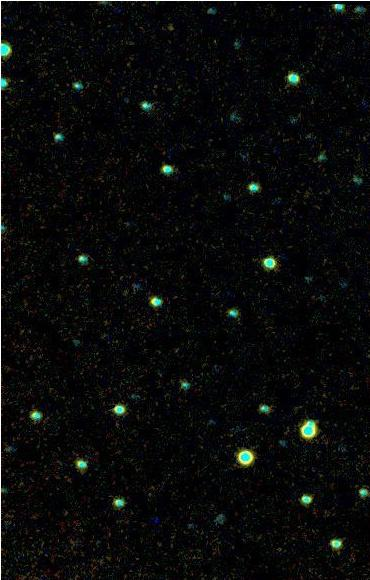star: (155, 11, 185, 41)
